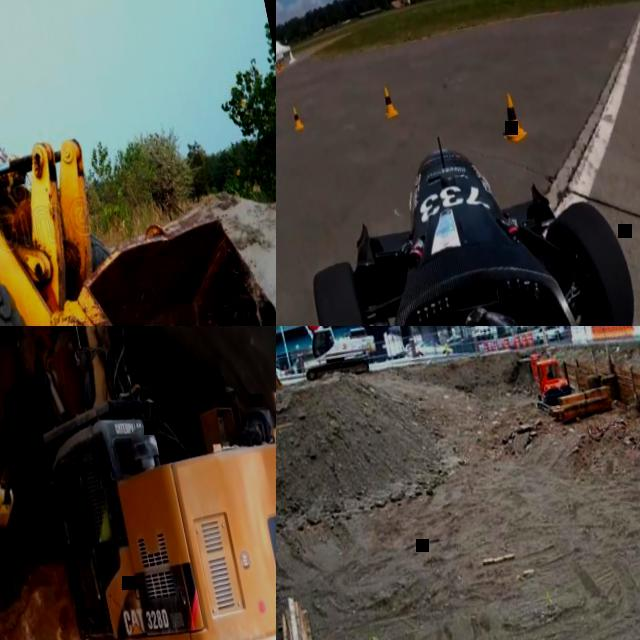machinery: (0, 0, 276, 326), (0, 326, 276, 640), (276, 326, 383, 399), (527, 340, 614, 425)
person: (76, 480, 126, 595)
safety_cone: (492, 88, 529, 146), (381, 84, 401, 121), (287, 104, 304, 130), (528, 332, 536, 346), (514, 335, 522, 348), (522, 333, 528, 348), (492, 340, 500, 350), (484, 342, 491, 352), (504, 338, 511, 348)
vehicle: (276, 102, 640, 326), (410, 334, 454, 361), (534, 326, 562, 342)
vest: (94, 502, 115, 542)
